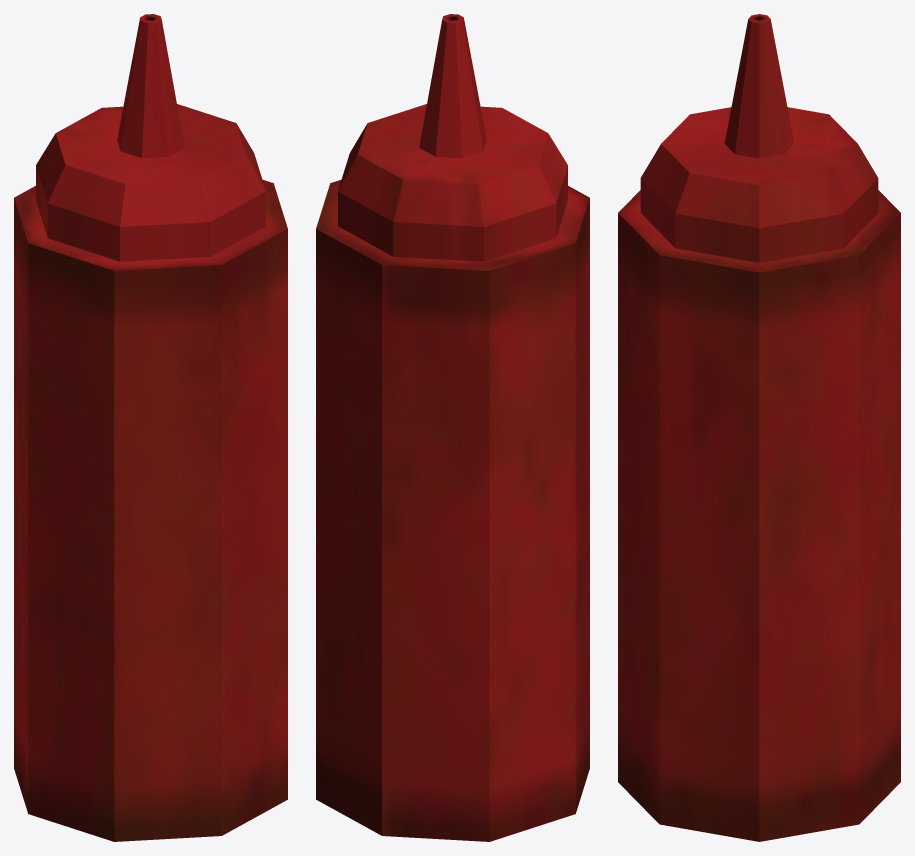
Rendered from ketchup_bottle.fbx.
The picture shows the model from 3 angles, left to right: view 1: azimuth 30°, elevation 25°; view 2: azimuth 150°, elevation 25°; view 3: azimuth 270°, elevation 25°; orthographic projection.
Visible parts, largest first — view 1: Ketchup; view 2: Ketchup; view 3: Ketchup.
Part boxes in pixels (x1,y1,x2,y2): Ketchup: [14, 14, 287, 841]; Ketchup: [316, 14, 589, 841]; Ketchup: [618, 14, 900, 841].
Size of the model in its own units: 0.1313 by 0.1313 by 0.3913.
